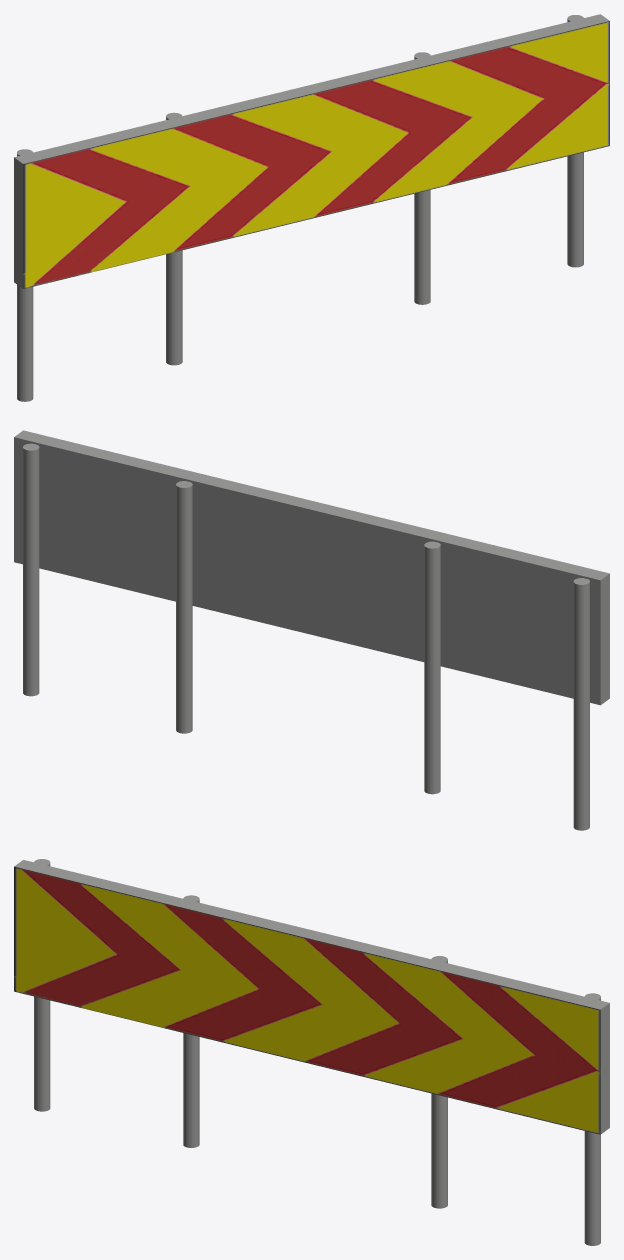
Rendered from valla.fbx.
3 views of the same model, one above another, from view 1: azimuth 30°, elevation 25°; view 2: azimuth 150°, elevation 25°; view 3: azimuth 330°, elevation 25° (orthographic).
Parts seen in each view (by area): view 1: Cube; view 2: Cube; view 3: Cube.
Part boxes in pixels (x1=…): Cube: x1=14, y1=14, x2=609, y2=401; Cube: x1=14, y1=430, x2=609, y2=830; Cube: x1=14, y1=859, x2=609, y2=1245.
Size of the model in its own units: 982 by 396 by 50.44.
1 material, 1 textured.
